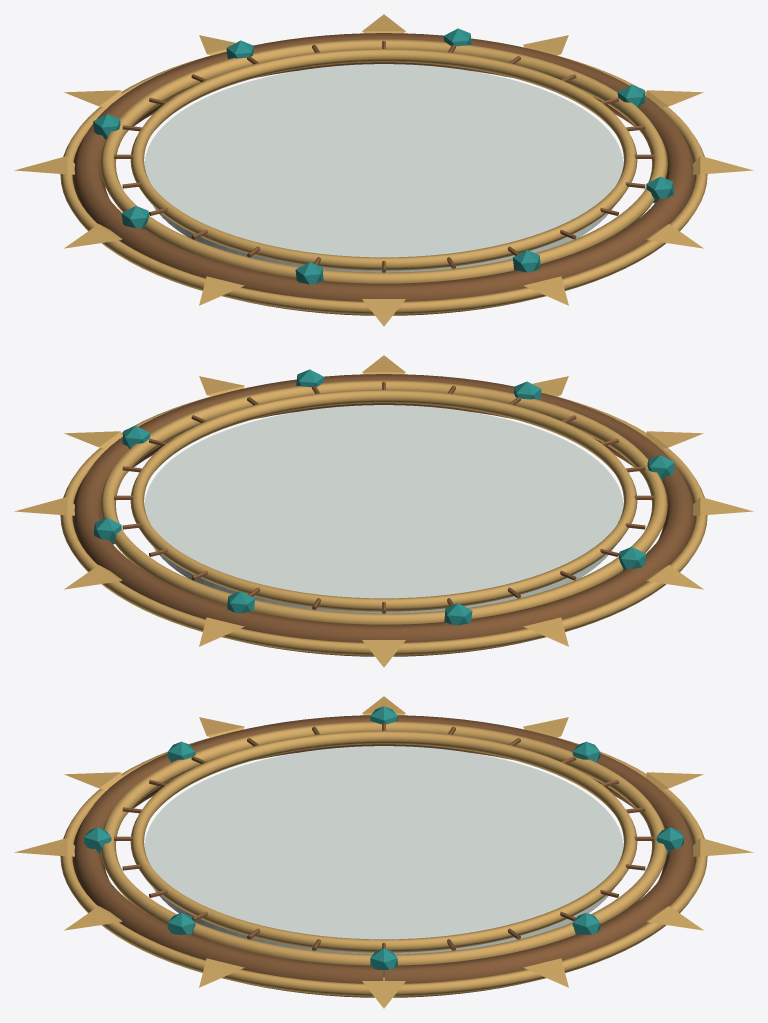
Rendered from solar-mirror.glb.
3 views of the same model, one above another, from view 1: azimuth 30°, elevation 25°; view 2: azimuth 150°, elevation 25°; view 3: azimuth 270°, elevation 25° (orthographic).
Visible parts, largest first — view 1: V04 polished silver gold 3, V04 engraved warm brass 0, V04 aged bronze 1, V04 turquoise enamel 2; view 2: V04 polished silver gold 3, V04 engraved warm brass 0, V04 aged bronze 1, V04 turquoise enamel 2; view 3: V04 polished silver gold 3, V04 engraved warm brass 0, V04 aged bronze 1, V04 turquoise enamel 2.
Boxes of the visible parts, x1,y1,x2,y2 form: V04 polished silver gold 3: (144,64,623,272); V04 engraved warm brass 0: (14,14,753,326); V04 aged bronze 1: (72,33,695,315); V04 turquoise enamel 2: (93,28,674,284); V04 polished silver gold 3: (144,405,623,613); V04 engraved warm brass 0: (14,355,753,667); V04 aged bronze 1: (72,374,695,656); V04 turquoise enamel 2: (93,369,674,625); V04 polished silver gold 3: (144,746,623,954); V04 engraved warm brass 0: (14,696,753,1008); V04 aged bronze 1: (72,715,695,997); V04 turquoise enamel 2: (84,706,683,976).
Size of the model in its own units: 2.52 by 0.1576 by 2.52.
